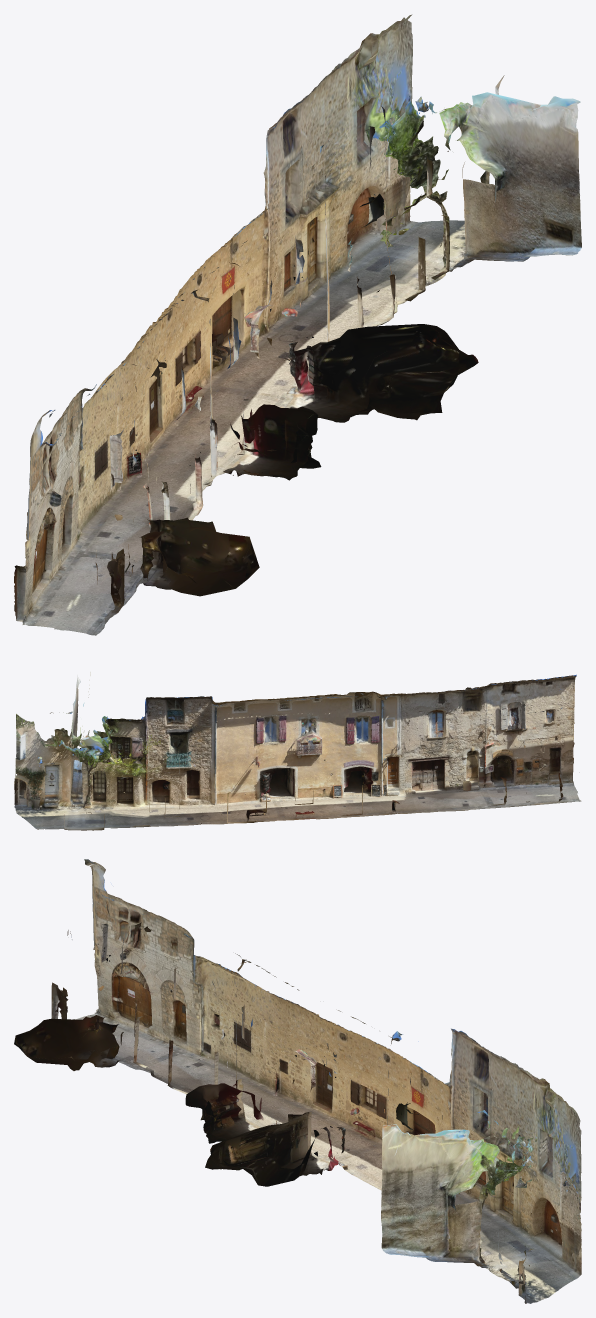
Rendered from medium.glb.
The picture shows the model from 3 angles, top to bottom: view 1: azimuth 30°, elevation 25°; view 2: azimuth 150°, elevation 25°; view 3: azimuth 270°, elevation 25°; orthographic projection. The views are drawn at different scales.
Visible parts, largest first — view 1: medium.028; view 2: medium.028; view 3: medium.028.
Boxes of the visible parts, x1,y1,x2,y2 form: medium.028: (14, 14, 581, 635); medium.028: (14, 672, 581, 830); medium.028: (14, 859, 581, 1303).
Size of the model in its own units: 28.64 by 7.89 by 23.03.
Materials: 1 (1 with a texture image).
